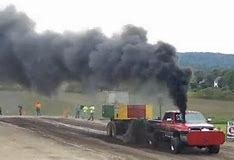smoke: (1, 1, 192, 113)
